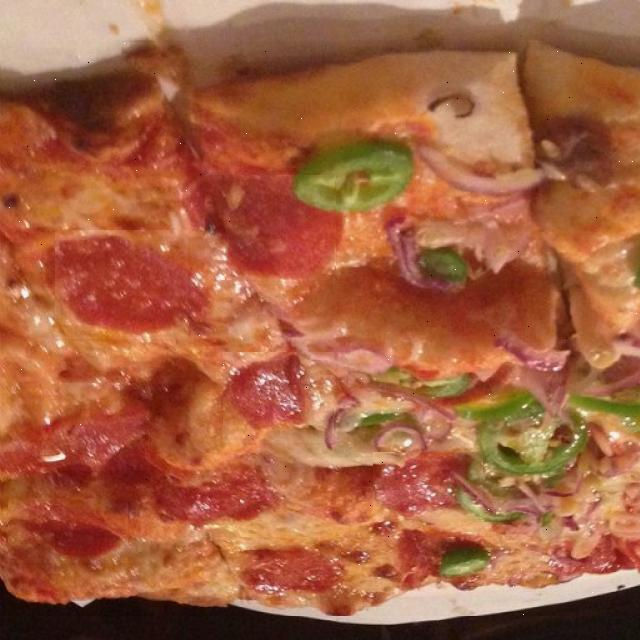pepperoni: (55, 230, 188, 338), (205, 175, 336, 283), (151, 453, 273, 535), (223, 352, 334, 442), (42, 383, 150, 469), (8, 498, 128, 562), (373, 452, 483, 518), (234, 537, 341, 602)
pizza: (1, 43, 639, 615)
